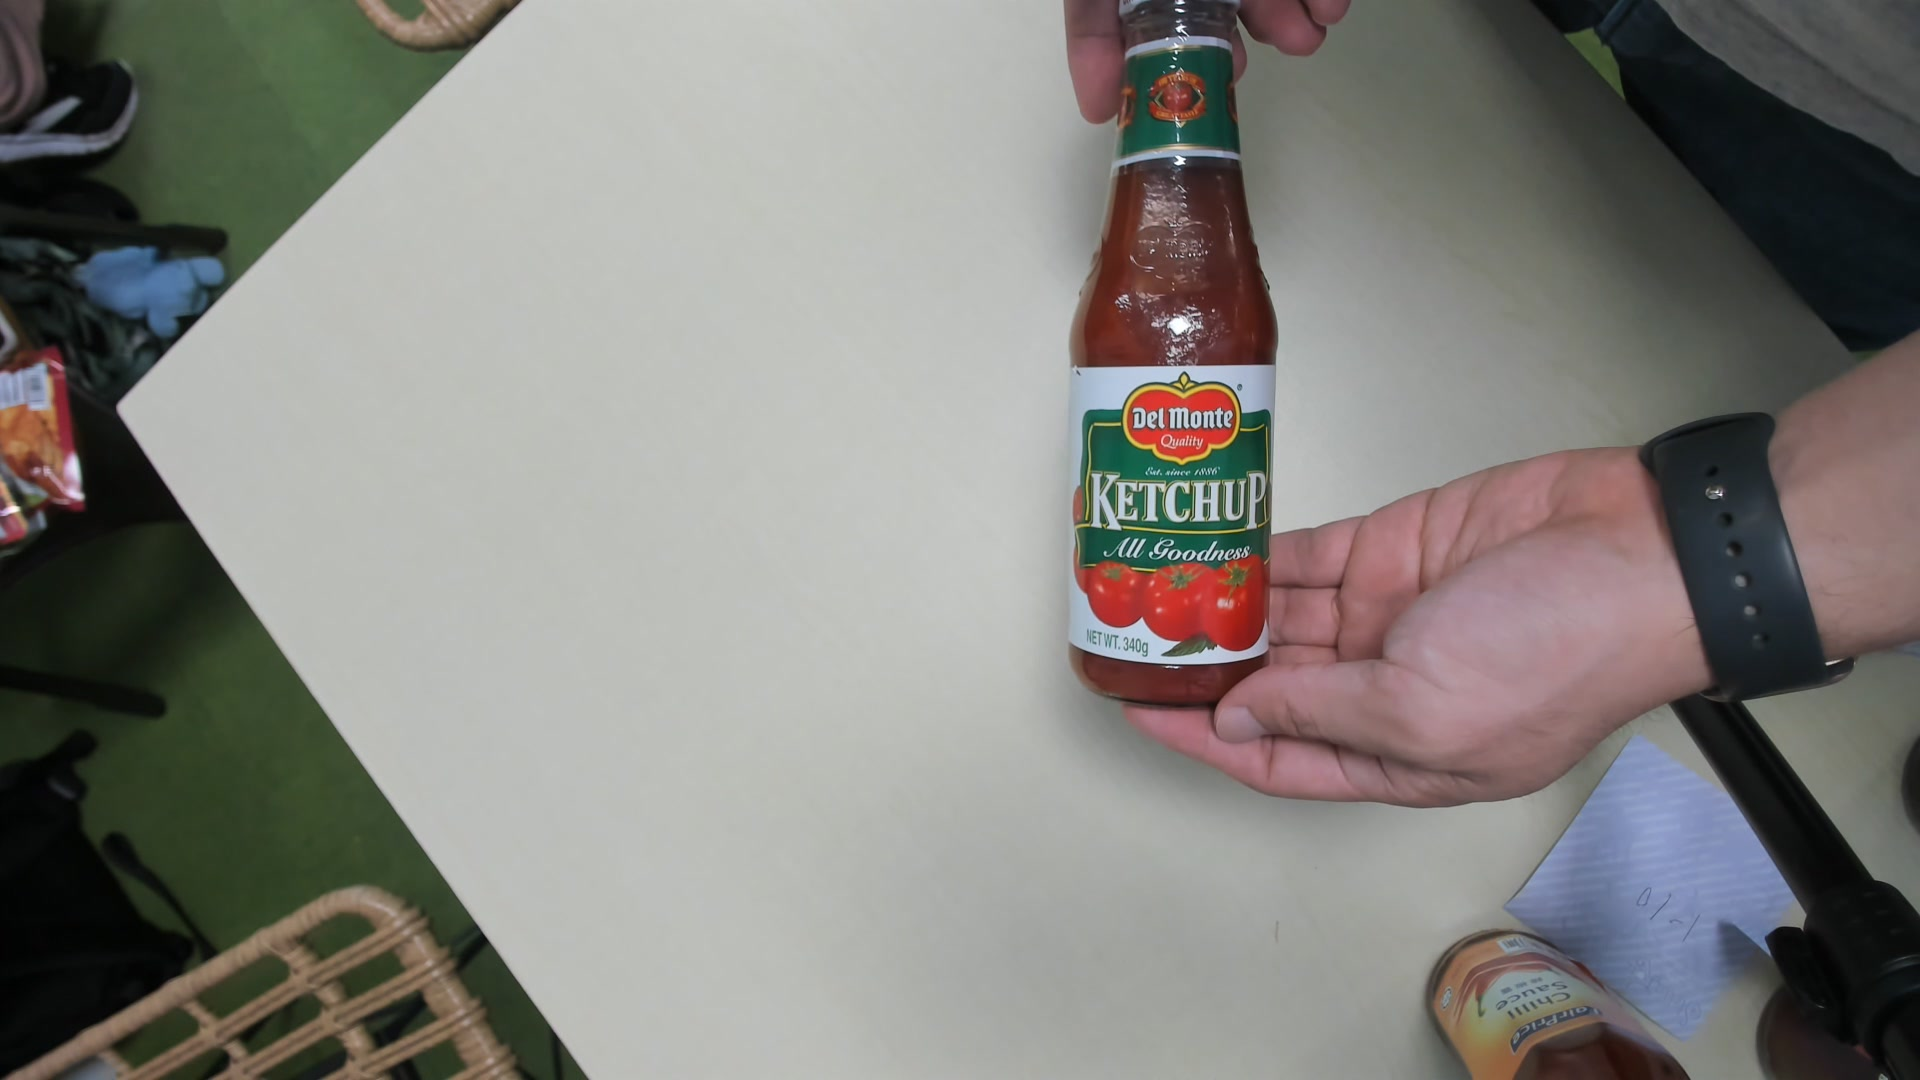KetchupChillSauce_300-399g_Halal_NonHealthy: (1067, 1, 1284, 717)
